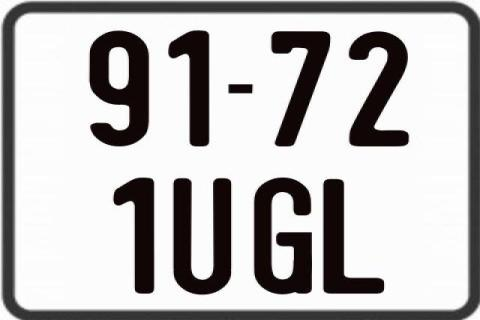0: (347, 29, 413, 149), (86, 30, 152, 148), (269, 30, 333, 148), (168, 30, 215, 146), (110, 176, 151, 296)
G: (253, 176, 312, 296)
L: (322, 177, 389, 297)
U: (172, 178, 230, 298)
